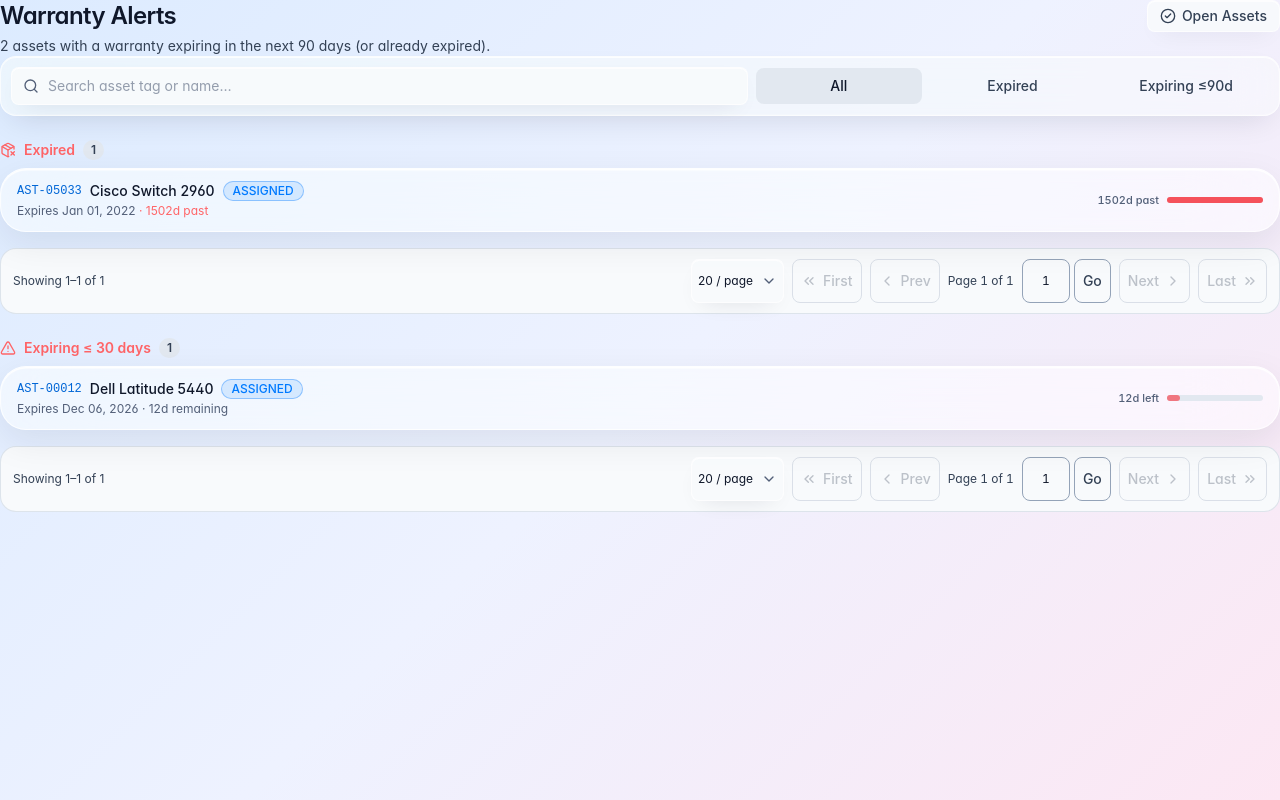
Test: Warranty view (task 9) › separates expired from expiring soon via tabs
Click the tab "Expired" at (1013, 86), box [930,68,1095,104]
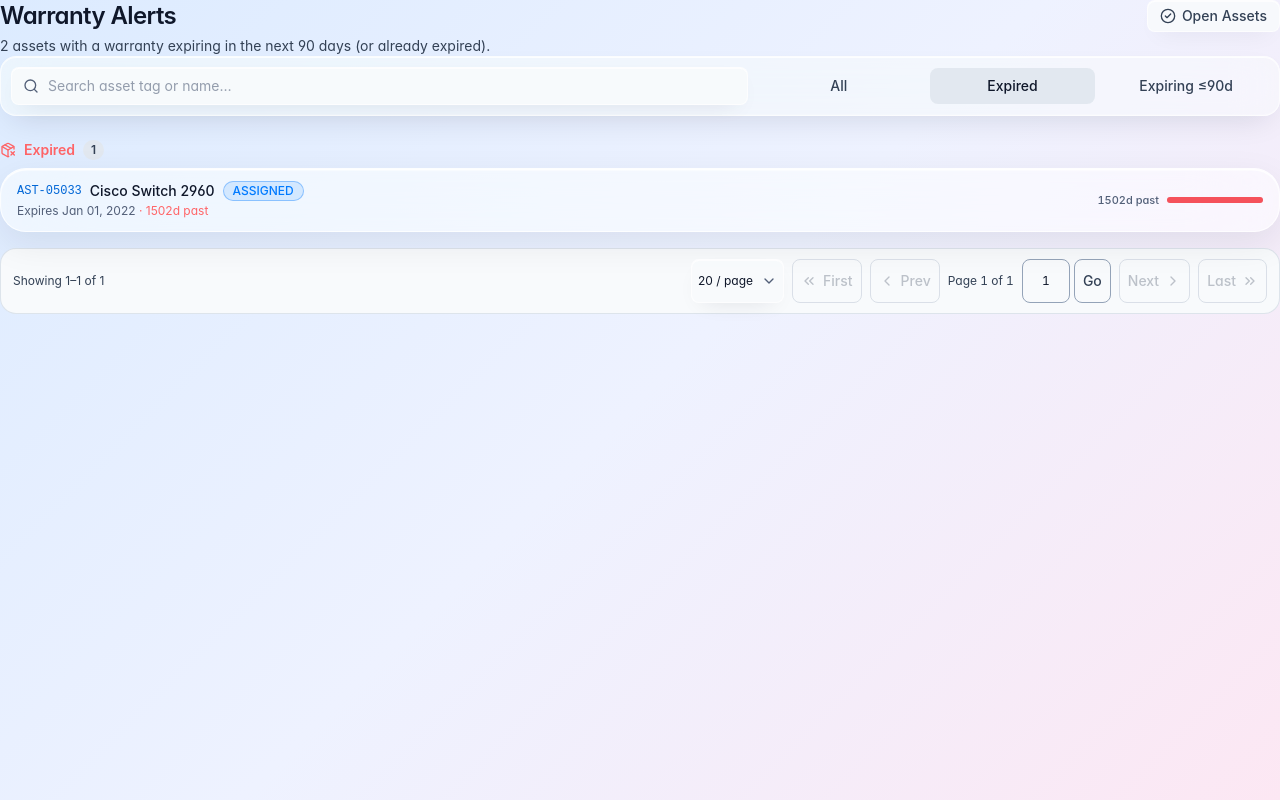
Check: the text "AST-05033" is shown, box [17,183,82,199]
Check: the button "12d remaining" is gone
